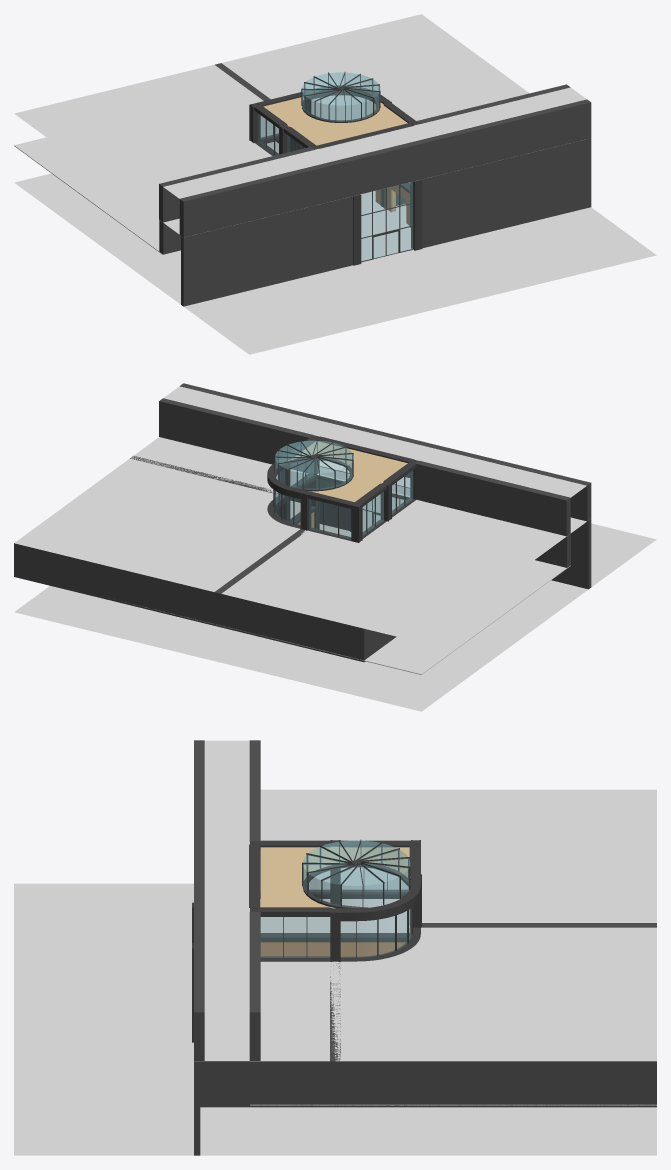
File: SmartSpaceHub.fbx
3 renders of one model, top to bottom at view 1: azimuth 30°, elevation 25°; view 2: azimuth 150°, elevation 25°; view 3: azimuth 270°, elevation 25°, orthographic. The views are drawn at different scales.
Visible parts, largest first — view 1: Floor, Plane.010, Plane.013, Cube.017, Cube.011, Cube.012, Cube.016, Plane.001, Plane.016, Plane.014, Cylinder, Cylinder.005 (+5 smaller); view 2: Plane.010, Floor, Plane.013, Plane.015, Cube.016, Cube.015, Plane.001, Cube.014, Cube.017, Plane.014, Cylinder, Cylinder.005 (+8 smaller); view 3: Floor, Plane.010, Plane.013, Plane.015, Cube.016, Plane.014, Cylinder, Cube.017, Cylinder.005, Plane.001, Cube.013, Cube.014 (+18 smaller).
Part boxes in pixels (left/top/right/bottom): Floor: left=14, top=173, right=656, bottom=354; Plane.010: left=165, top=14, right=529, bottom=138; Plane.013: left=14, top=77, right=272, bottom=219; Cube.017: left=179, top=99, right=591, bottom=237; Cube.011: left=181, top=196, right=352, bottom=306; Cube.012: left=422, top=138, right=591, bottom=248; Cube.016: left=163, top=87, right=586, bottom=198; Plane.001: left=14, top=137, right=180, bottom=254; Plane.016: left=361, top=182, right=412, bottom=261; Plane.014: left=263, top=97, right=407, bottom=145; Cylinder: left=302, top=72, right=380, bottom=121; Cylinder.005: left=302, top=72, right=380, bottom=105; Plane.010: left=14, top=437, right=357, bottom=605; Floor: left=14, top=494, right=656, bottom=711; Plane.013: left=272, top=500, right=569, bottom=642; Plane.015: left=14, top=543, right=396, bottom=662; Cube.016: left=163, top=386, right=586, bottom=497; Cube.015: left=415, top=460, right=570, bottom=536; Plane.001: left=271, top=560, right=570, bottom=674; Cube.014: left=159, top=398, right=312, bottom=473; Cube.017: left=180, top=383, right=591, bottom=521; Plane.014: left=288, top=441, right=407, bottom=502; Cylinder: left=275, top=441, right=353, bottom=489; Cylinder.005: left=275, top=441, right=353, bottom=473; Floor: left=14, top=883, right=656, bottom=1155; Plane.010: left=250, top=889, right=656, bottom=1061; Plane.013: left=260, top=789, right=656, bottom=889; Plane.015: left=200, top=1061, right=656, bottom=1107; Cube.016: left=204, top=740, right=249, bottom=1012; Plane.014: left=260, top=847, right=410, bottom=908; Cylinder: left=303, top=840, right=410, bottom=907; Cube.017: left=194, top=740, right=204, bottom=1060; Cylinder.005: left=303, top=840, right=409, bottom=885; Plane.001: left=260, top=899, right=409, bottom=932; Cube.013: left=194, top=1012, right=249, bottom=1061; Cube.014: left=249, top=912, right=260, bottom=1060.
Size of the model in its own units: 8000 by 2286 by 8000.
